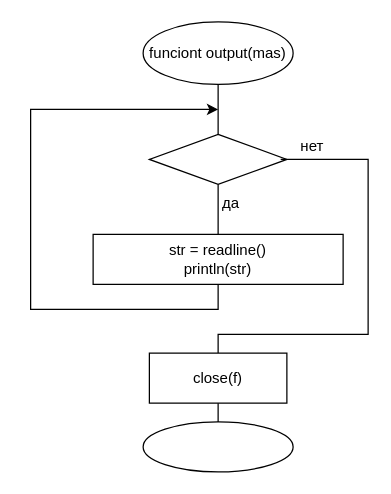
Some shapes in this 391 by 494 pixel diagram are drawn without their labels. Each missing label, with the box of its shape:
!(eof(f): (148, 133, 287, 184)
return: (142, 421, 293, 472)
